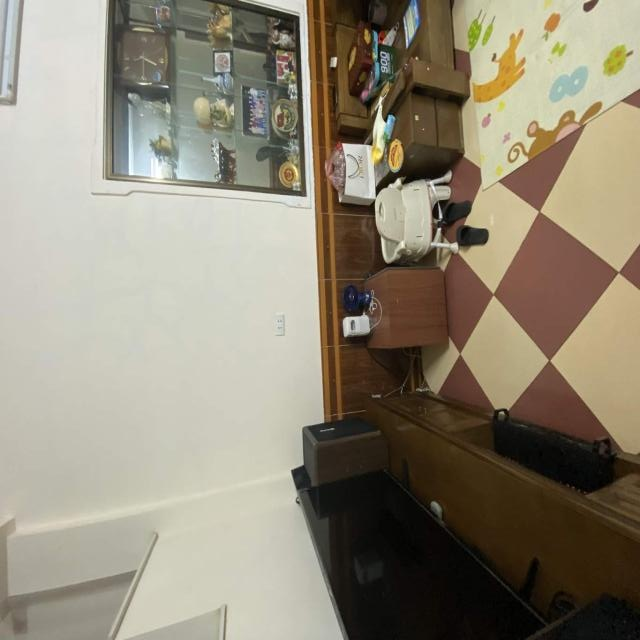outlet: (274, 313, 285, 336)
